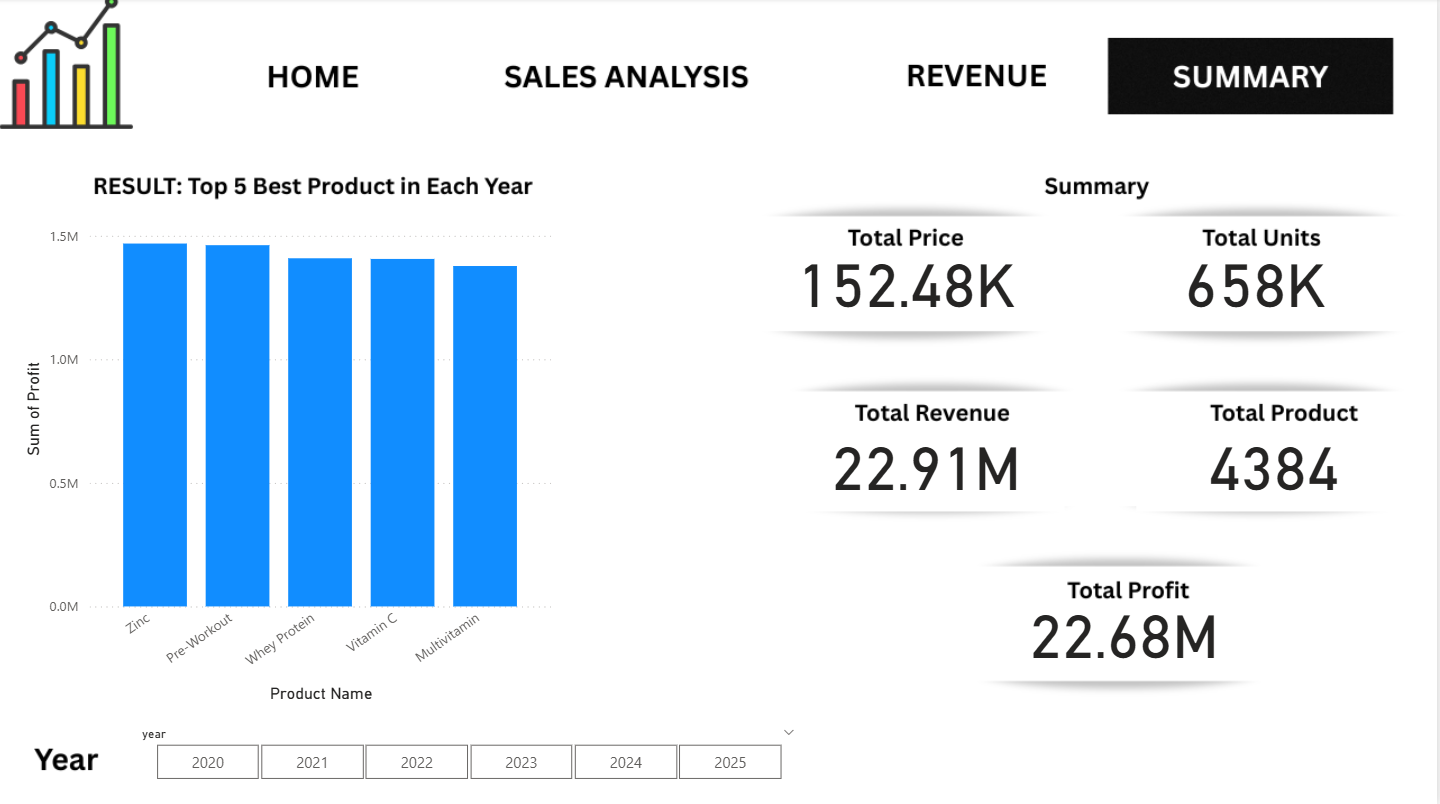

This screenshot's page, from the dashboard's own definition file:
{"tool":"powerbi","page":{"name":"Summary","canvas":[1280,720],"ordinal":3},"visuals":[{"type":"clusteredColumnChart","fields":{"Category":["sales_data salesdataanalysis.Product Name"],"Y":["Sum(sales_data salesdataanalysis.Profit)"]},"box":[16.5,175.6,480.3,456.9],"z":0},{"type":"slicer","fields":{"Values":["sales_data salesdataanalysis.year"]},"box":[113.9,643.6,606.5,59],"z":1},{"type":"card","fields":{"Values":["Sum(sales_data salesdataanalysis.Price)"]},"box":[683.4,226.4,247,68.6],"z":2},{"type":"card","fields":{"Values":["Sum(sales_data salesdataanalysis.Units Sold)"]},"box":[994.9,226.4,245.6,68.6],"z":3},{"type":"card","fields":{"Values":["Sum(sales_data salesdataanalysis.Revenue)"]},"box":[702.6,388.3,245.6,68.6],"z":4},{"type":"card","fields":{"Values":["CountNonNull(sales_data salesdataanalysis.Product Name)"]},"box":[1011.3,388.3,245.6,68.6],"z":5},{"type":"card","fields":{"Values":["Sum(sales_data salesdataanalysis.Profit)"]},"box":[883.7,537.9,234.6,70],"z":6},{"type":"actionButton","box":[778,48,170.2,39.8],"z":7},{"type":"actionButton","box":[443.2,48,240.1,39.8],"z":8},{"type":"actionButton","box":[219.6,48,152.3,39.8],"z":9}]}

Visuals, with their boxes in screenshot pixels (x1, y1, x2, y2), scaled from the page's 1280x720 canvas onto the 1440x804 screenshot:
clusteredColumnChart - sales_data salesdataanalysis.Product Name x Sum(sales_data salesdataanalysis.Profit): 19, 196, 559, 706
slicer - sales_data salesdataanalysis.year: 128, 719, 810, 785
card - Sum(sales_data salesdataanalysis.Price): 769, 253, 1047, 329
card - Sum(sales_data salesdataanalysis.Units Sold): 1119, 253, 1396, 329
card - Sum(sales_data salesdataanalysis.Revenue): 790, 434, 1067, 510
card - CountNonNull(sales_data salesdataanalysis.Product Name): 1138, 434, 1414, 510
card - Sum(sales_data salesdataanalysis.Profit): 994, 601, 1258, 679
actionButton: 875, 54, 1067, 98
actionButton: 499, 54, 769, 98
actionButton: 247, 54, 418, 98
